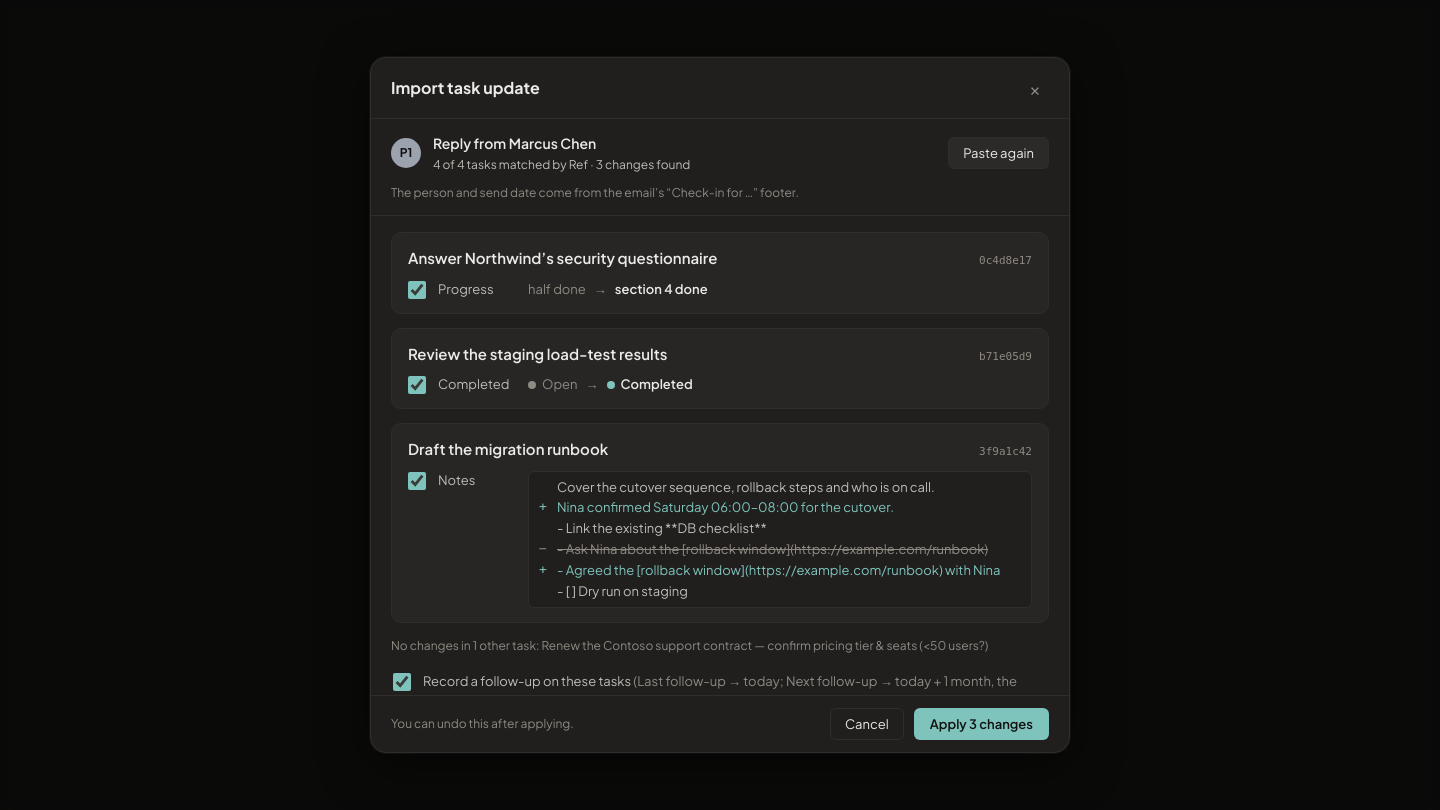
Test: CheckinImportDialog — reading a paste › the Apply count follows the ticks
Click the checkbox labelled "Notes".
click(417, 481)  # box [408,472,426,490]
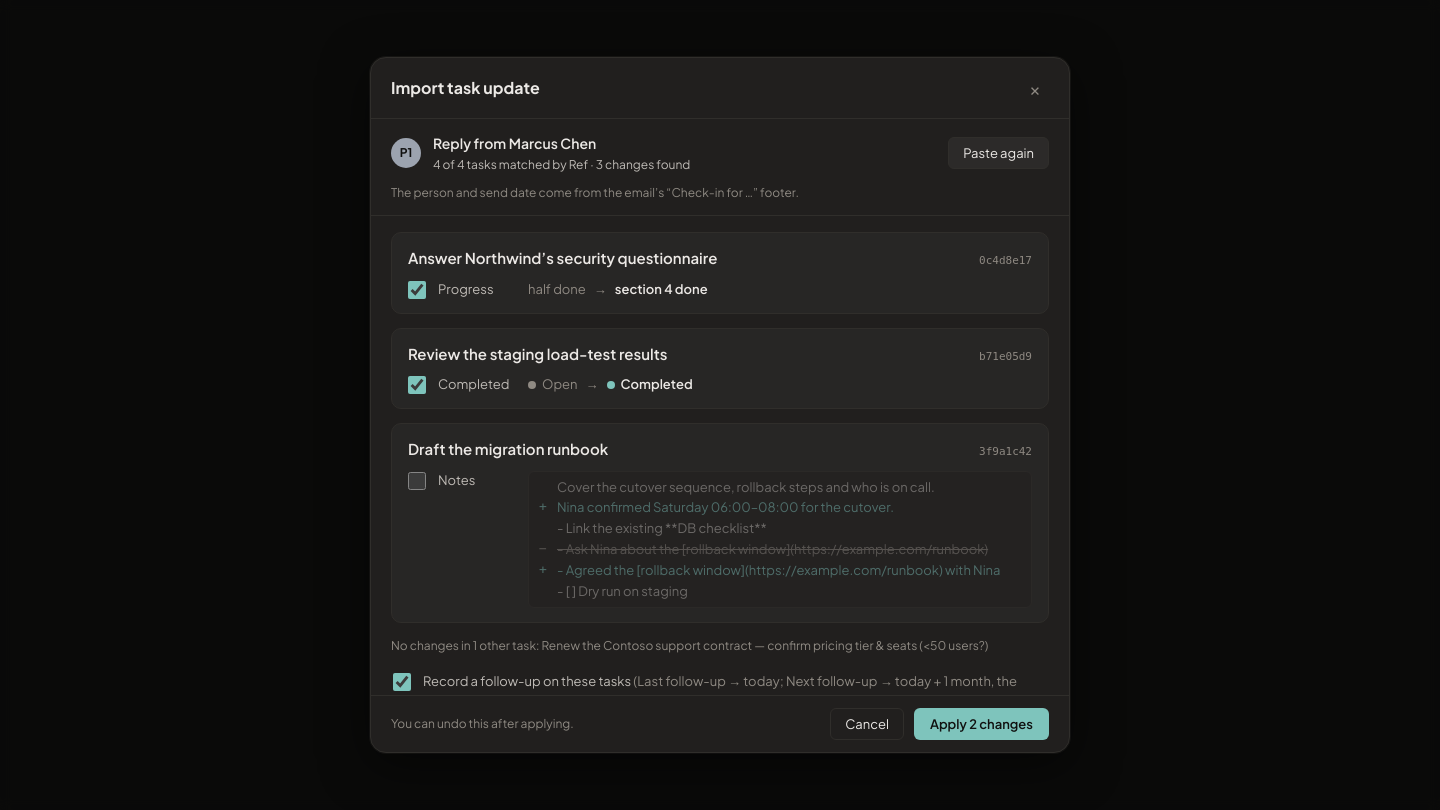
Now the button "Apply 2 changes" is shown, box [914,708,1049,740]
Click the checkbox labelled "Completed".
click(417, 385)  # box [408,376,426,394]
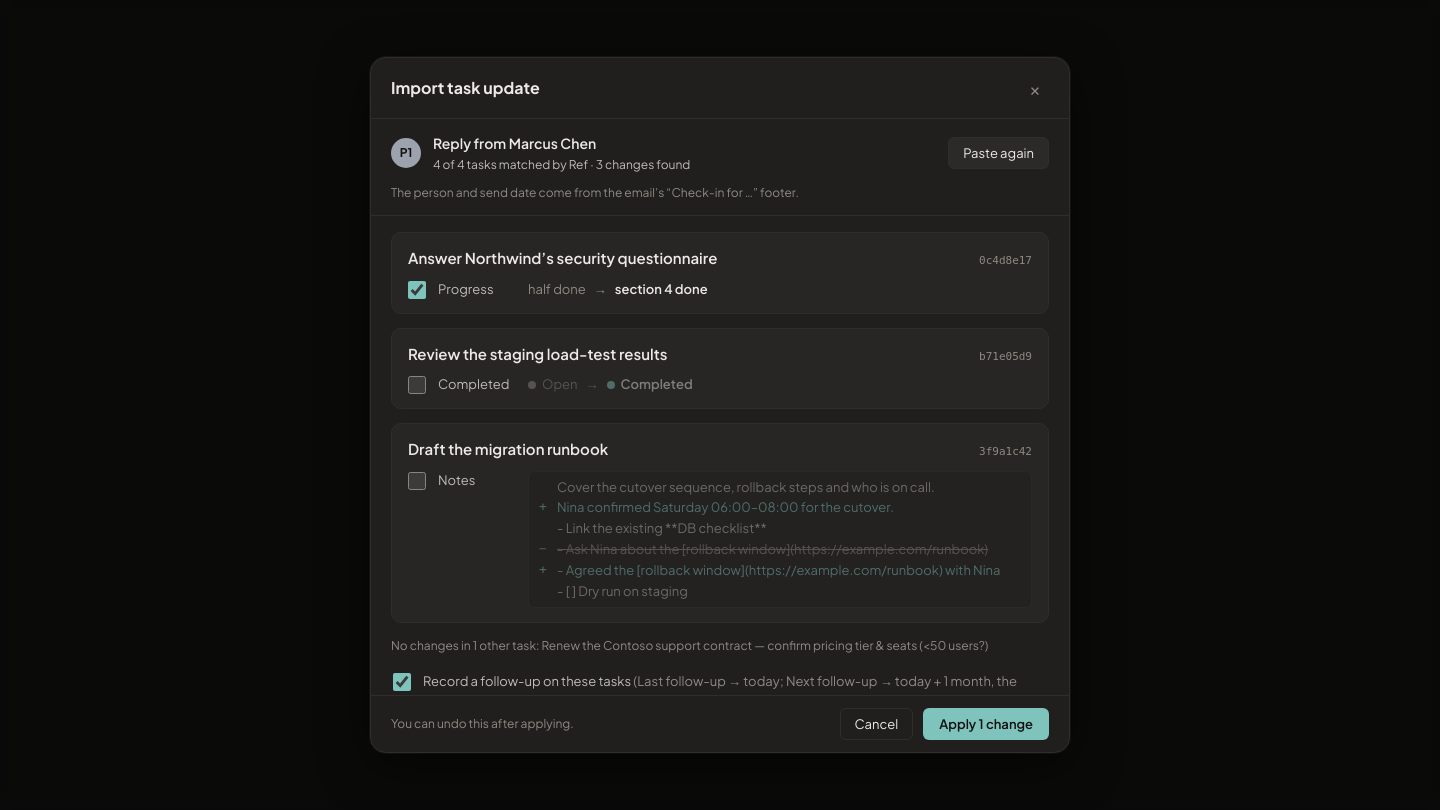
Click the checkbox labelled "Progress".
click(417, 290)  # box [408,281,426,299]
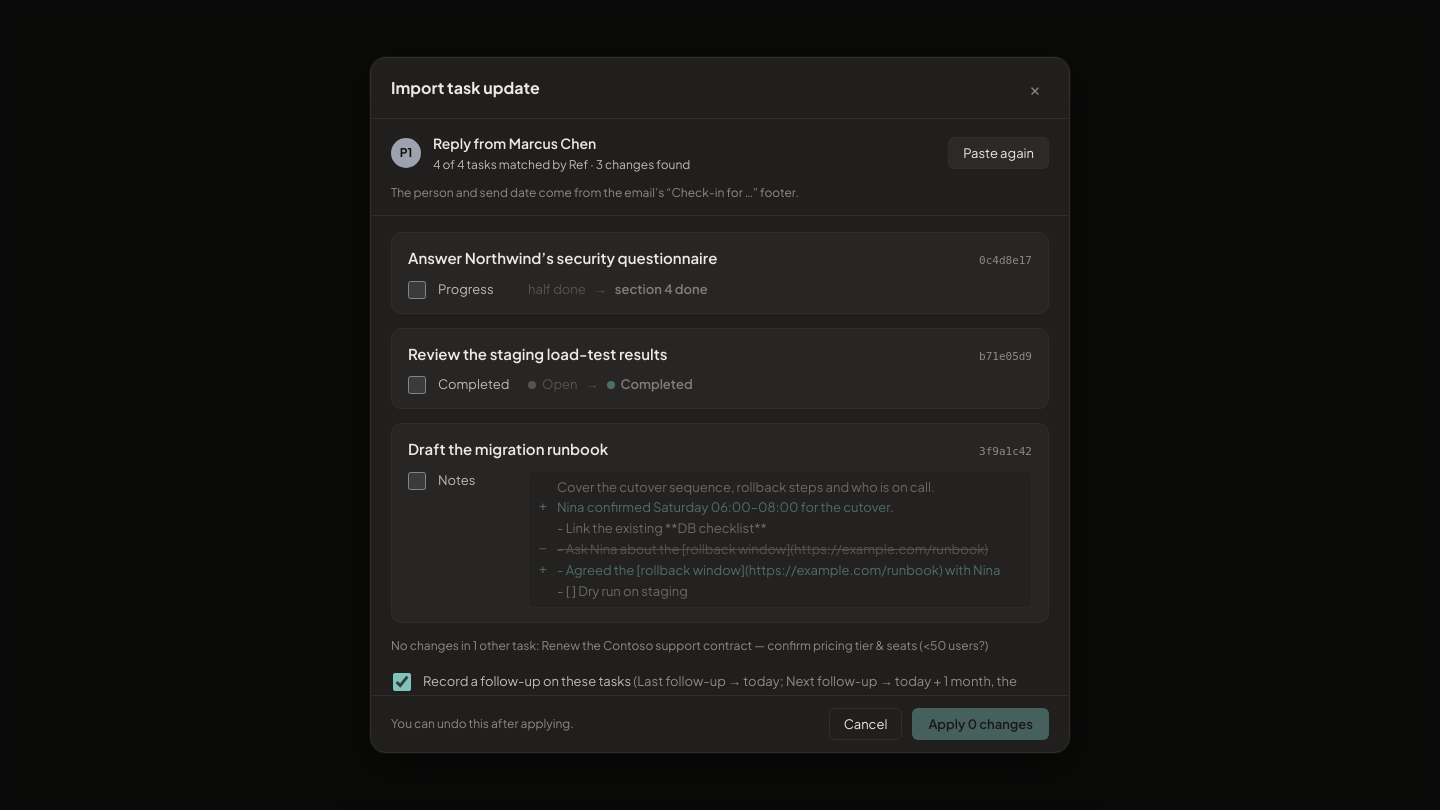
Now the button "Apply 0 changes" is shown, box [912,708,1049,740]
Now the button "Apply 0 changes" is disabled, box [912,708,1049,740]
